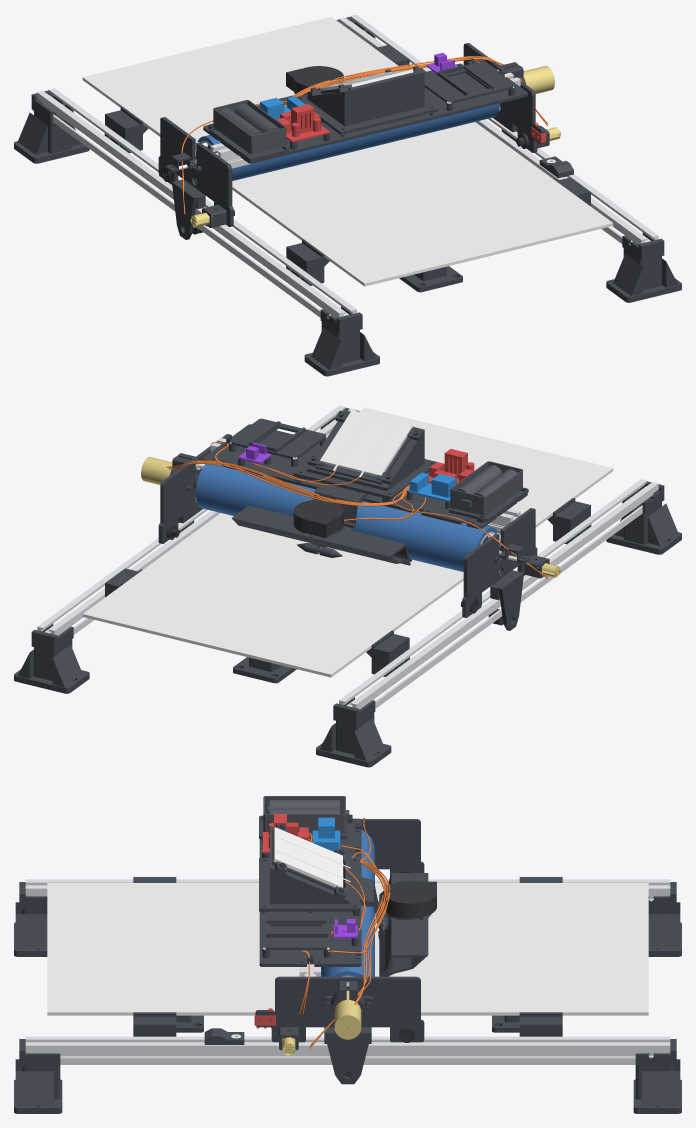
Rendered from arc_full_textured.glb.
The picture shows the model from 3 angles, top to bottom: view 1: azimuth 30°, elevation 25°; view 2: azimuth 150°, elevation 25°; view 3: azimuth 270°, elevation 25°; orthographic projection. The views are drawn at different scales.
Parts seen in each view (by area): view 1: cots_solar_panel, cots_guide_rail_left, endplate_left, solar_wedge, chassis_tray, roller_sleeve, cots_guide_rail_right, testbed_rail_riser_lr, testbed_rail_riser_rr, cots_battery_2x18650, testbed_rail_riser_lf, endplate_right (+10 smaller); view 2: cots_solar_panel, roller_sleeve, cots_guide_rail_left, endplate_left, chassis_tray, cots_pv_mini_panel, solar_wedge, cots_guide_rail_right, testbed_rail_riser_lf, testbed_rail_riser_rf, cots_battery_2x18650, testbed_rail_riser_lr (+12 smaller); view 3: cots_solar_panel, cots_guide_rail_right, endplate_right, chassis_tray, solar_wedge, testbed_rail_riser_rr, testbed_rail_riser_rf, endplate_left, cowl_right, cots_pv_mini_panel, cots_battery_2x18650, esp32_adapter_sled (+15 smaller).
Boxes of the visible parts, x1=… form: cots_solar_panel: x1=82, y1=16, x2=613, y2=286; cots_guide_rail_left: x1=37, y1=88, x2=356, y2=318; endplate_left: x1=158, y1=117, x2=233, y2=239; solar_wedge: x1=296, y1=71, x2=438, y2=134; chassis_tray: x1=203, y1=59, x2=527, y2=163; roller_sleeve: x1=196, y1=103, x2=499, y2=180; cots_guide_rail_right: x1=339, y1=14, x2=658, y2=244; testbed_rail_riser_lr: x1=304, y1=306, x2=379, y2=376; testbed_rail_riser_rr: x1=606, y1=232, x2=681, y2=302; cots_battery_2x18650: x1=213, y1=100, x2=286, y2=154; testbed_rail_riser_lf: x1=14, y1=90, x2=89, y2=163; endplate_right: x1=463, y1=43, x2=549, y2=152; cots_solar_panel: x1=82, y1=407, x2=613, y2=677; roller_sleeve: x1=196, y1=464, x2=499, y2=571; cots_guide_rail_left: x1=339, y1=479, x2=658, y2=709; endplate_left: x1=462, y1=508, x2=549, y2=630; chassis_tray: x1=203, y1=424, x2=528, y2=528; cots_pv_mini_panel: x1=320, y1=410, x2=413, y2=477; solar_wedge: x1=293, y1=410, x2=436, y2=499; cots_guide_rail_right: x1=37, y1=405, x2=356, y2=635; testbed_rail_riser_lf: x1=316, y1=697, x2=391, y2=767; testbed_rail_riser_rf: x1=14, y1=623, x2=89, y2=693; cots_battery_2x18650: x1=450, y1=461, x2=522, y2=515; testbed_rail_riser_lr: x1=606, y1=481, x2=681, y2=554; cots_solar_panel: x1=47, y1=883, x2=648, y2=1015; cots_guide_rail_right: x1=25, y1=1036, x2=670, y2=1064; endplate_right: x1=255, y1=976, x2=424, y2=1084; chassis_tray: x1=259, y1=814, x2=361, y2=966; solar_wedge: x1=259, y1=826, x2=359, y2=911; testbed_rail_riser_rr: x1=14, y1=1039, x2=62, y2=1113; testbed_rail_riser_rf: x1=633, y1=1039, x2=681, y2=1113; endplate_left: x1=361, y1=819, x2=424, y2=876; cowl_right: x1=378, y1=912, x2=431, y2=976; cots_pv_mini_panel: x1=273, y1=827, x2=350, y2=887; cots_battery_2x18650: x1=263, y1=796, x2=349, y2=833; esp32_adapter_sled: x1=262, y1=912, x2=330, y2=949.
Bounding box in the file's own units: 0.4402 × 0.183 × 0.622.
